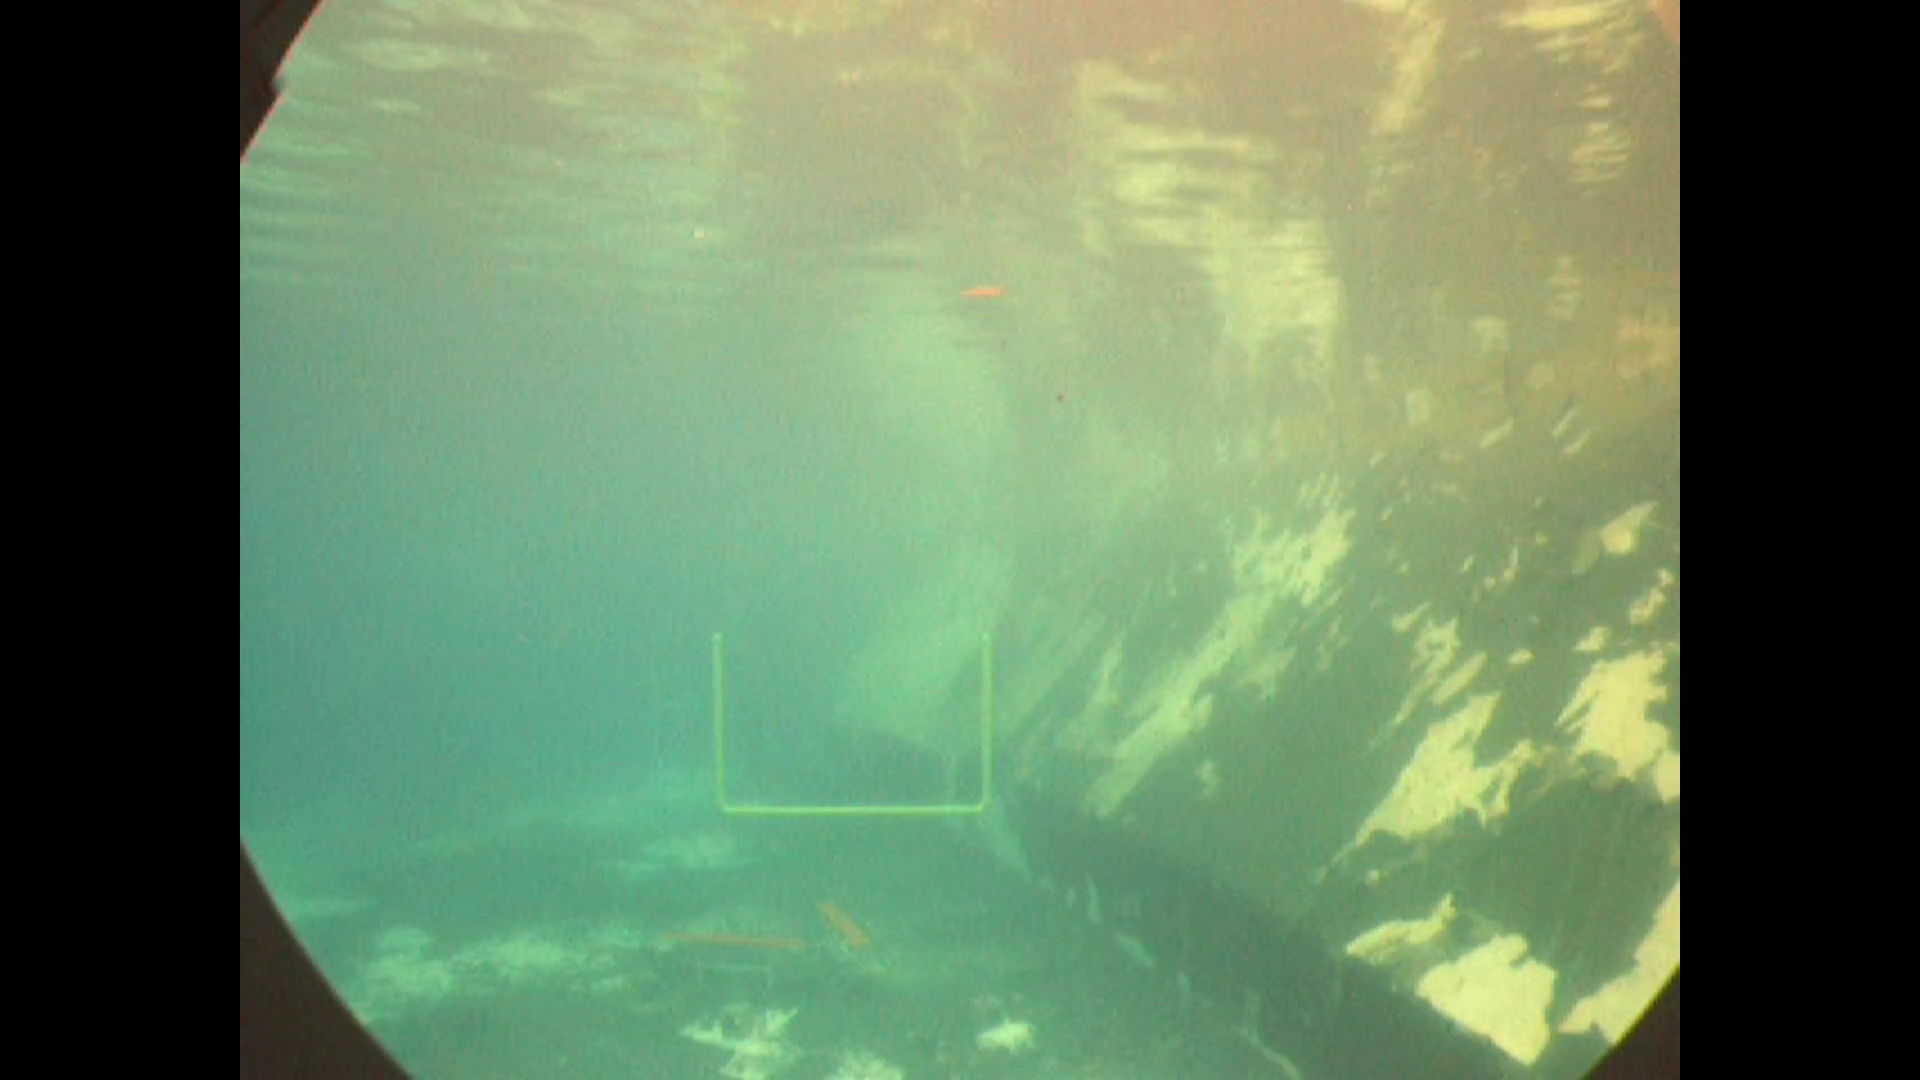gate: (709, 625, 1004, 825)
